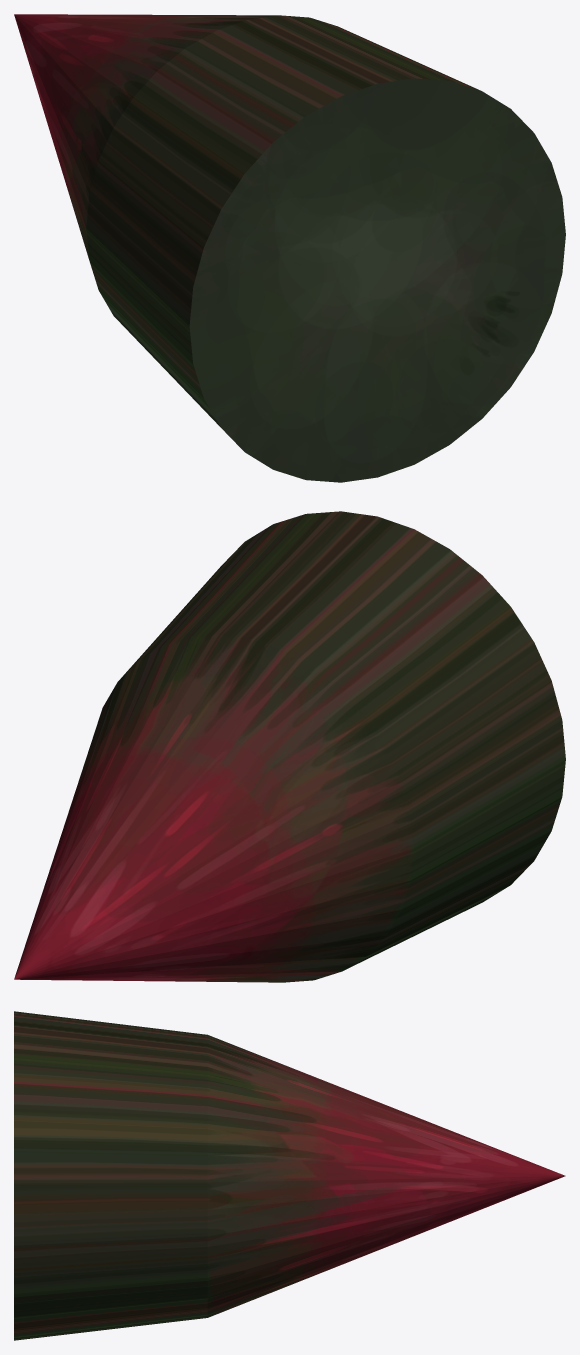
The model's file is Rose.fbx.
The picture shows the model from 3 angles, top to bottom: view 1: azimuth 30°, elevation 25°; view 2: azimuth 150°, elevation 25°; view 3: azimuth 270°, elevation 25°; orthographic projection. The views are drawn at different scales.
Visible parts, largest first — view 1: Rose; view 2: Rose; view 3: Rose.
Boxes of the visible parts, box(x1,y1,x2,y2) form: Rose: box(14, 14, 565, 482); Rose: box(14, 511, 565, 982); Rose: box(14, 1011, 565, 1340).
Size of the model in its own units: 158 by 158 by 265.
